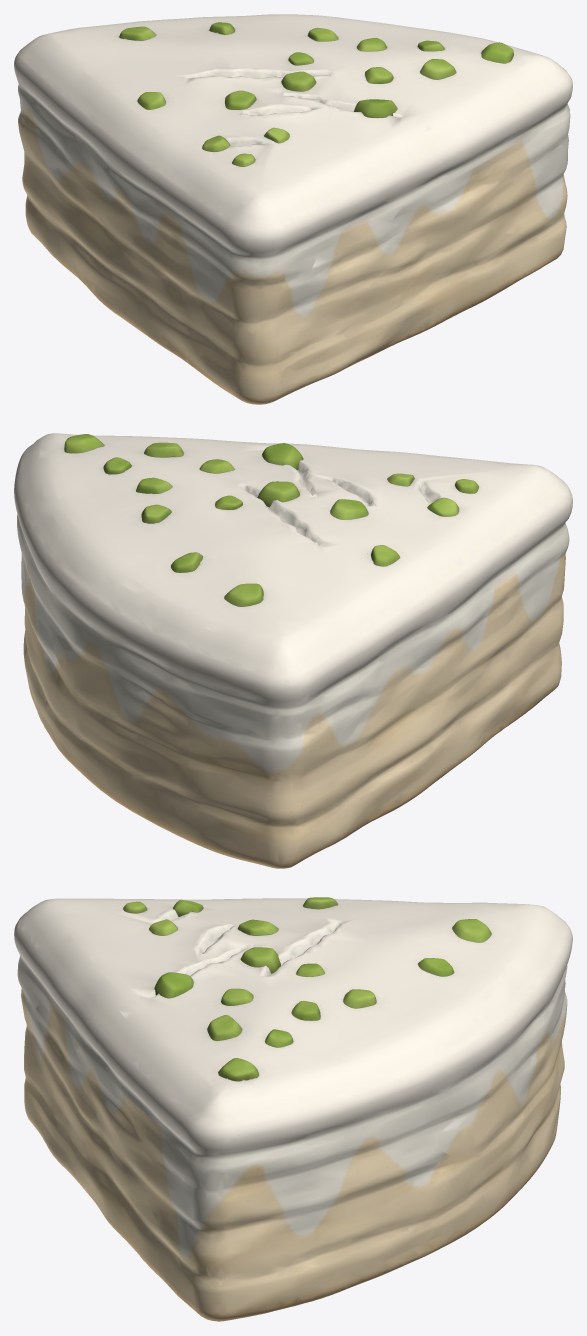
Rendered from scone--pistachio-piece.glb.
3 renders of one model, top to bottom at view 1: azimuth 30°, elevation 25°; view 2: azimuth 150°, elevation 25°; view 3: azimuth 270°, elevation 25°, orthographic. The views are drawn at different scales.
Visible parts, largest first — view 1: scone_pistachio-piece; view 2: scone_pistachio-piece; view 3: scone_pistachio-piece.
Boxes of the visible parts, x1,y1,x2,y2 form: scone_pistachio-piece: (14, 14, 572, 404); scone_pistachio-piece: (14, 433, 572, 868); scone_pistachio-piece: (14, 897, 572, 1321).
Size of the model in its own units: 0.9373 by 0.4786 by 0.9825.
Materials: 1 (1 with a texture image).
